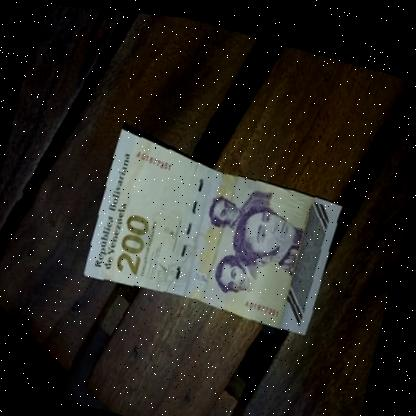two_hundred-front-vef: (81, 123, 349, 340)
